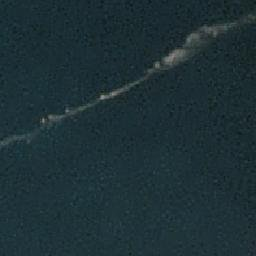debris: (180, 18, 244, 47), (140, 49, 192, 81), (81, 80, 134, 109), (40, 109, 77, 122)
